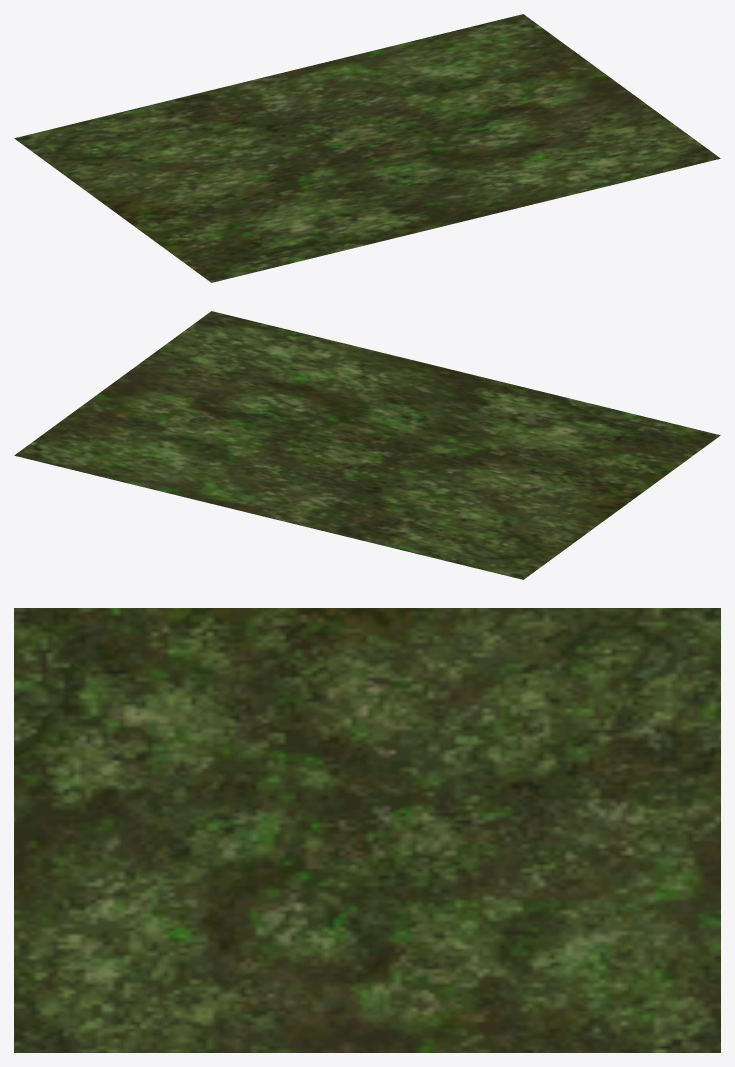
The model's file is OVERHILL_A_01_OBJECT101.fbx.
The picture shows the model from 3 angles, top to bottom: view 1: azimuth 30°, elevation 25°; view 2: azimuth 150°, elevation 25°; view 3: azimuth 270°, elevation 25°; orthographic projection. The views are drawn at different scales.
Parts seen in each view (by area): view 1: OVERHILL_A_01_OBJECT101; view 2: OVERHILL_A_01_OBJECT101; view 3: OVERHILL_A_01_OBJECT101.
Part boxes in pixels (<box>): OVERHILL_A_01_OBJECT101: <box>14,14,720,282</box>; OVERHILL_A_01_OBJECT101: <box>14,311,720,579</box>; OVERHILL_A_01_OBJECT101: <box>14,608,720,1052</box>.
Bounding box in the file's own units: 30000 × 0.00328 × 20148.
1 material, 1 textured.
